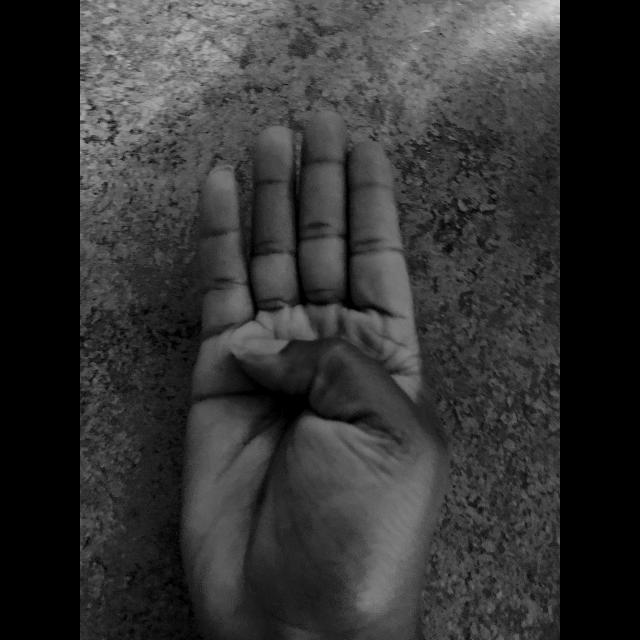B: (171, 105, 459, 640)
